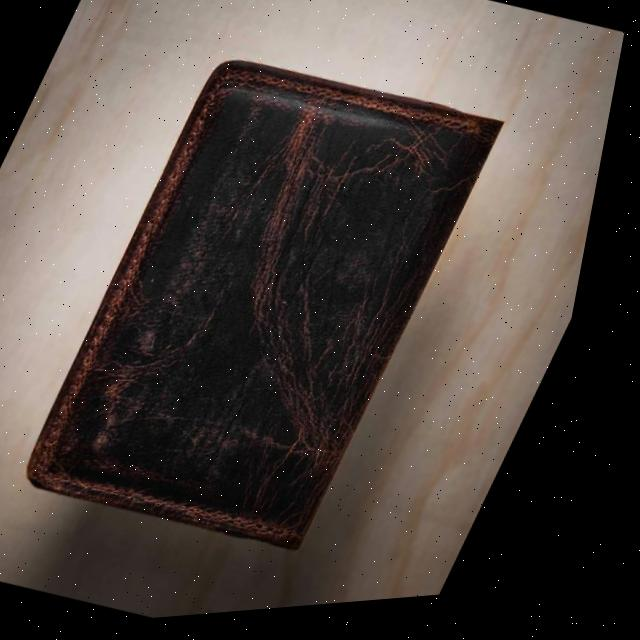cuzdan: (0, 0, 571, 622)
